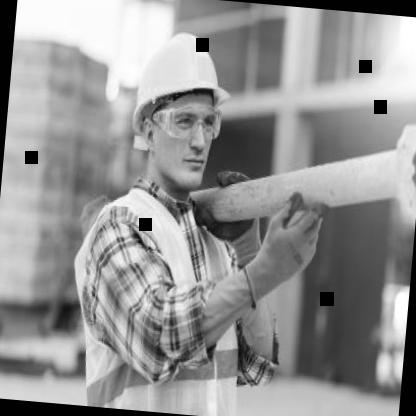helmet: (124, 19, 232, 204)
